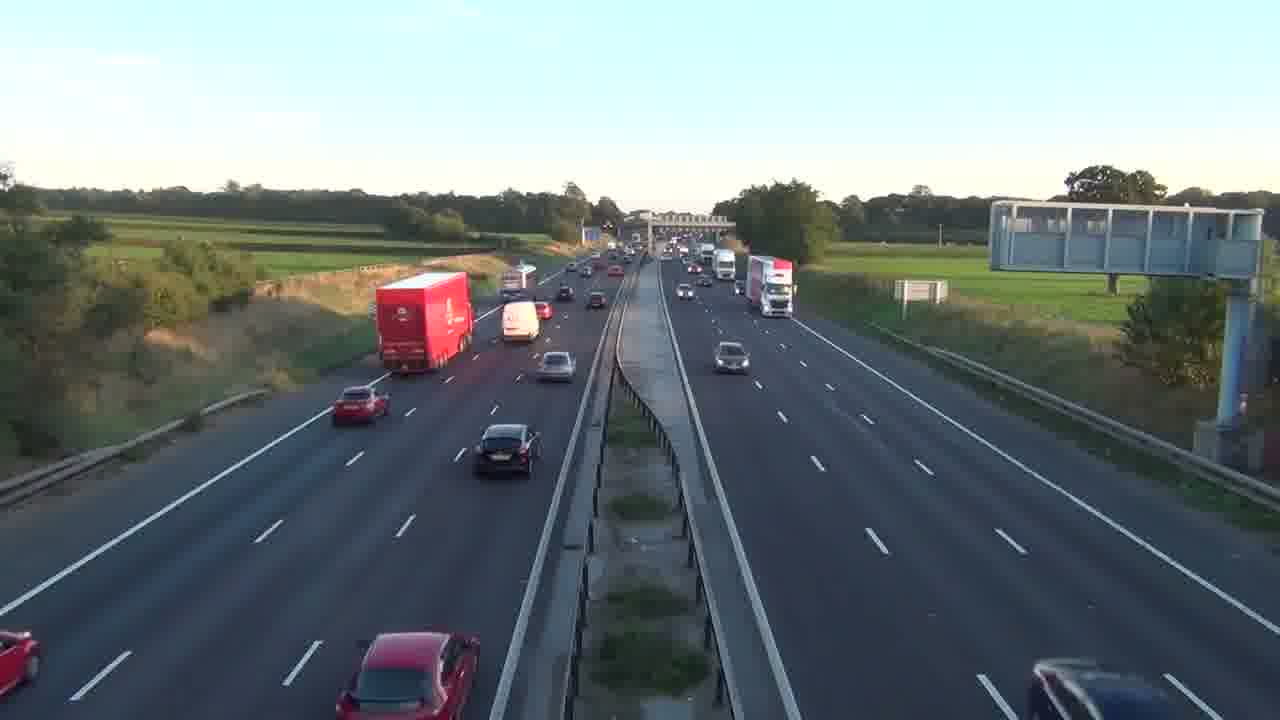car: (335, 628, 481, 719), (474, 422, 537, 478), (0, 626, 46, 702), (333, 384, 390, 426), (713, 339, 752, 374), (539, 351, 576, 383), (585, 291, 609, 310)
truck: (373, 270, 474, 374), (713, 248, 736, 282)
